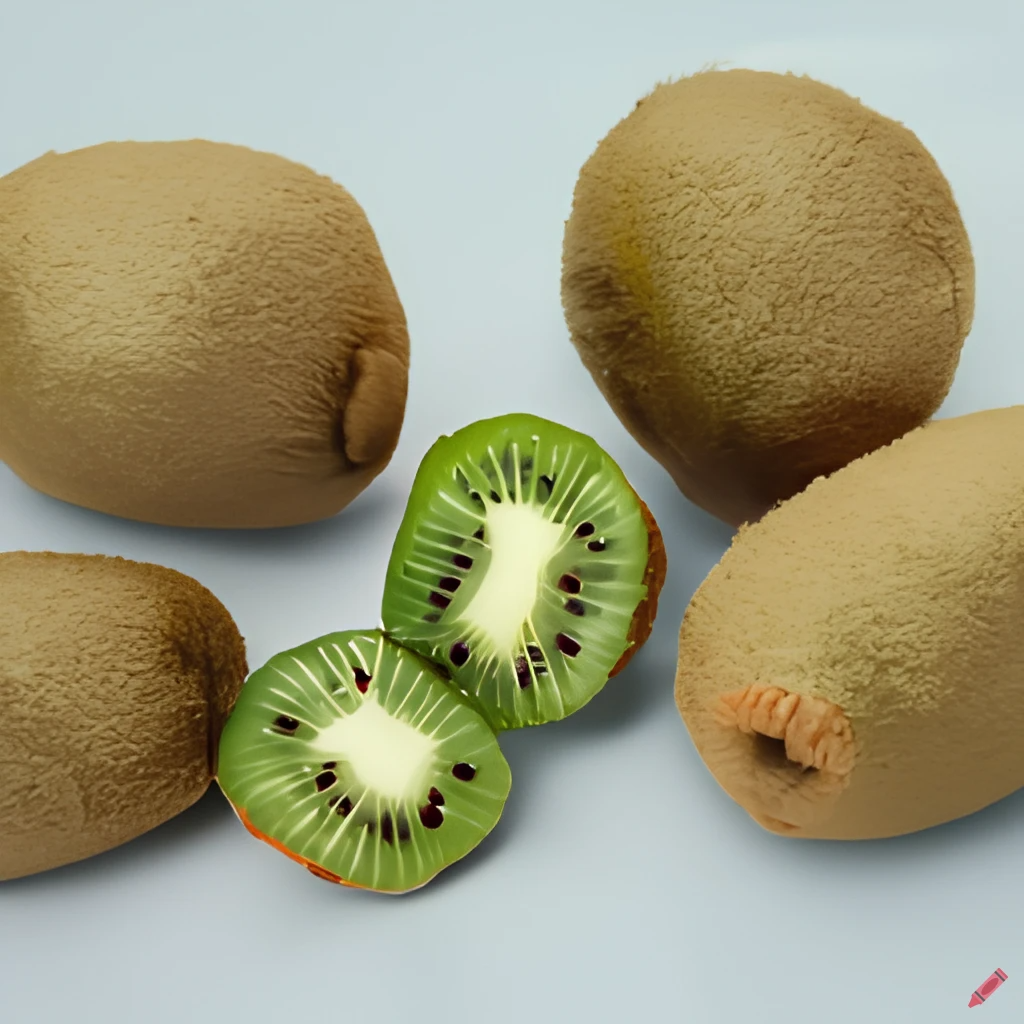Kiwi: (6, 115, 397, 544), (0, 535, 260, 908)
